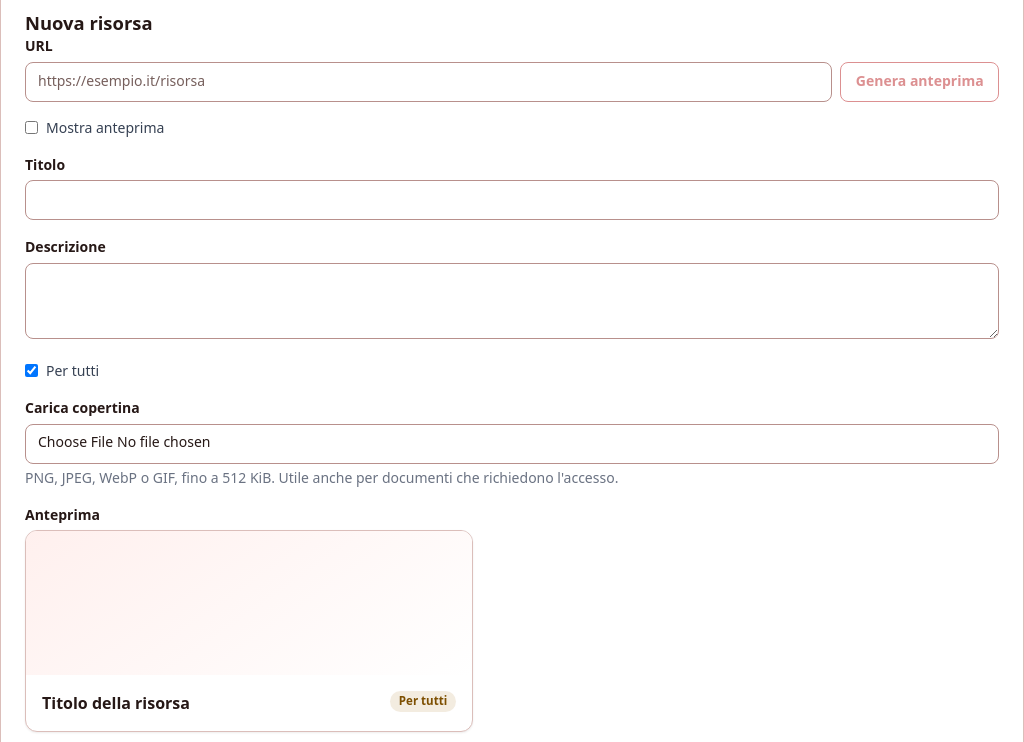
ResourceEditor › reports invalid URL, missing title, and missing subgroup accessibly on submit
Click the checkbox labelled "Per tutti" at (32, 371), box [25,364,38,378]
(page scrolled)
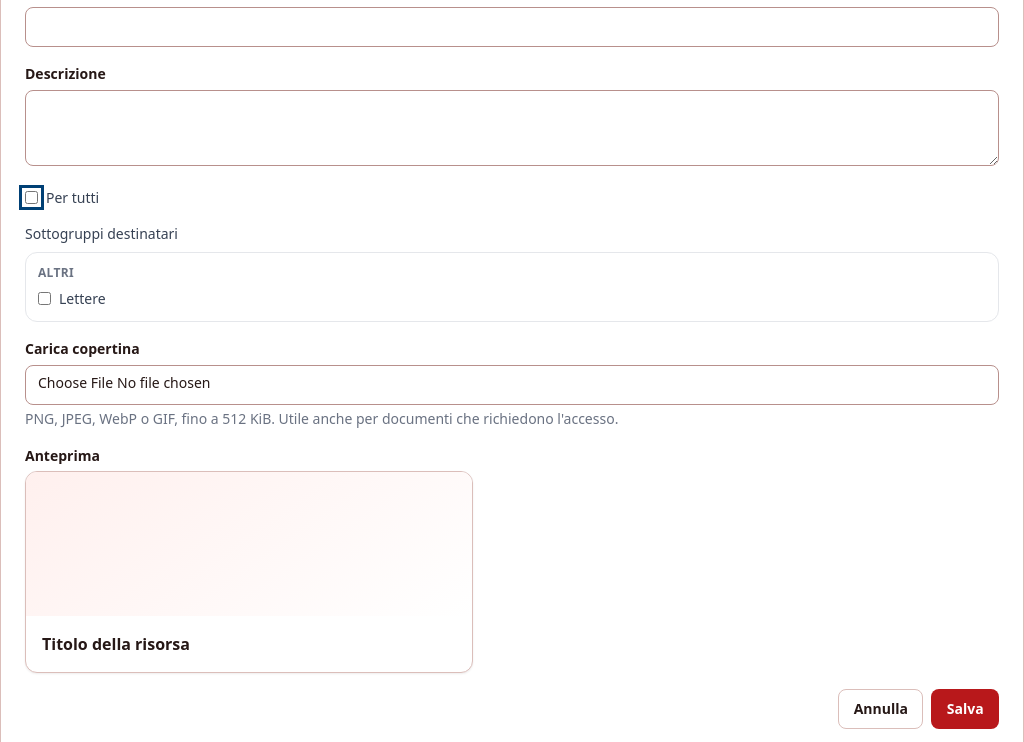
Click the button "Salva" at (965, 709), box [931,689,999,729]
(page scrolled)
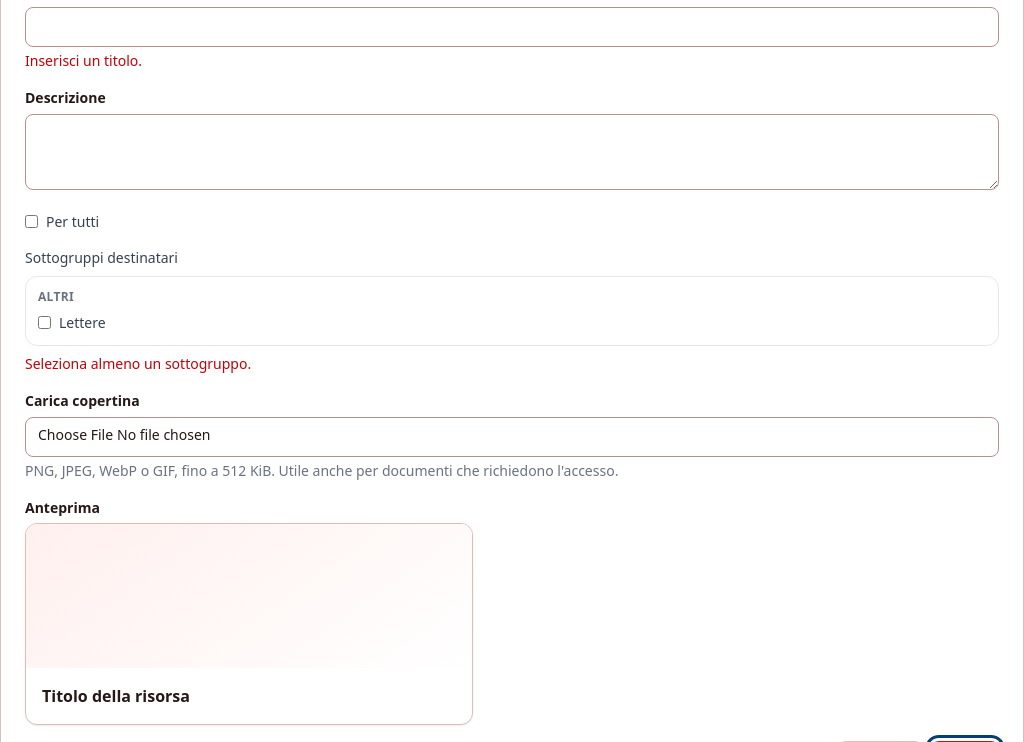
Expected: the text "Inserisci un titolo." is shown, [25,51,142,70]
Expected: the text "Seleziona almeno un sottogruppo." is shown, [25,354,251,373]
